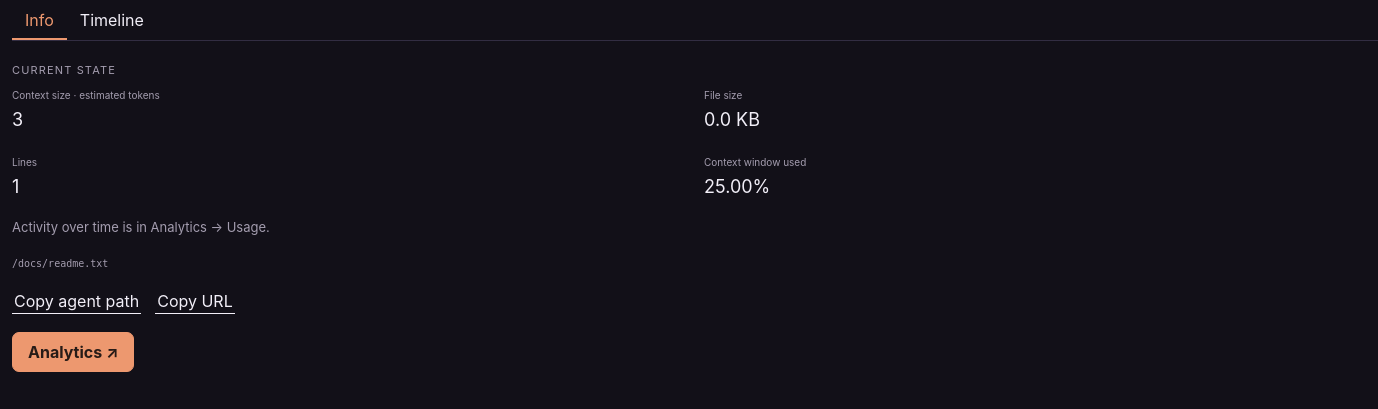
Test: clipboard actions announce success and failure
The image size is (1378, 409).
(page scrolled)
Click the button "Copy agent path" at point(77, 301), box [12,289,141,314]
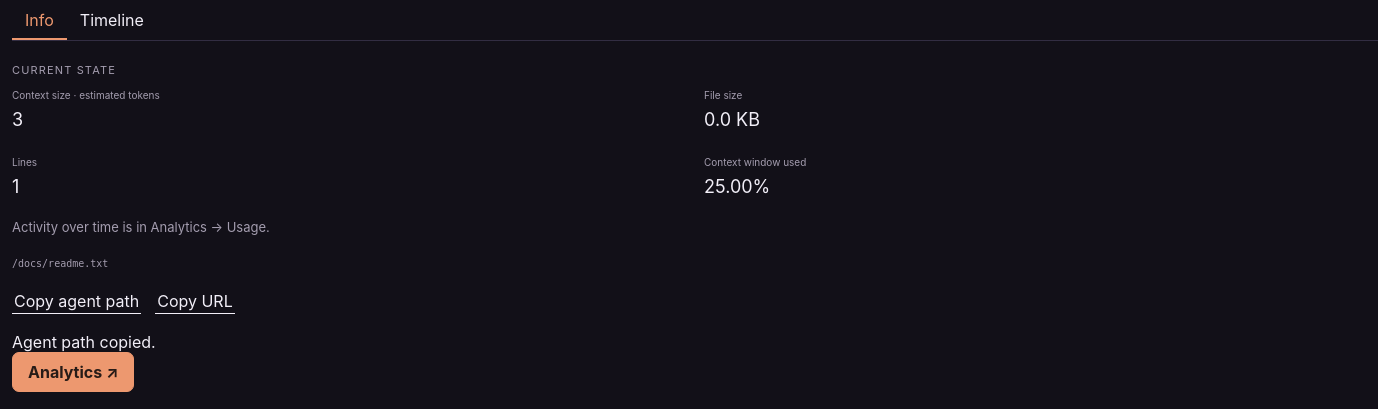
Expected: the text "Agent path copied." is shown, [12,332,156,352]
Click the button "Copy URL" at point(195, 301), box [155,289,235,314]
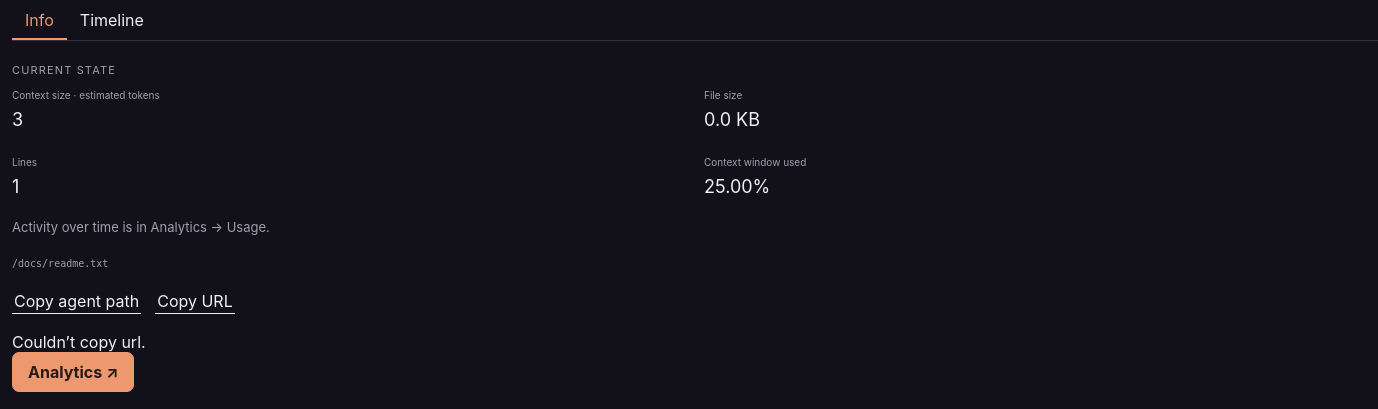
Expected: the text "Couldn’t copy url." is shown, [12,332,146,352]
